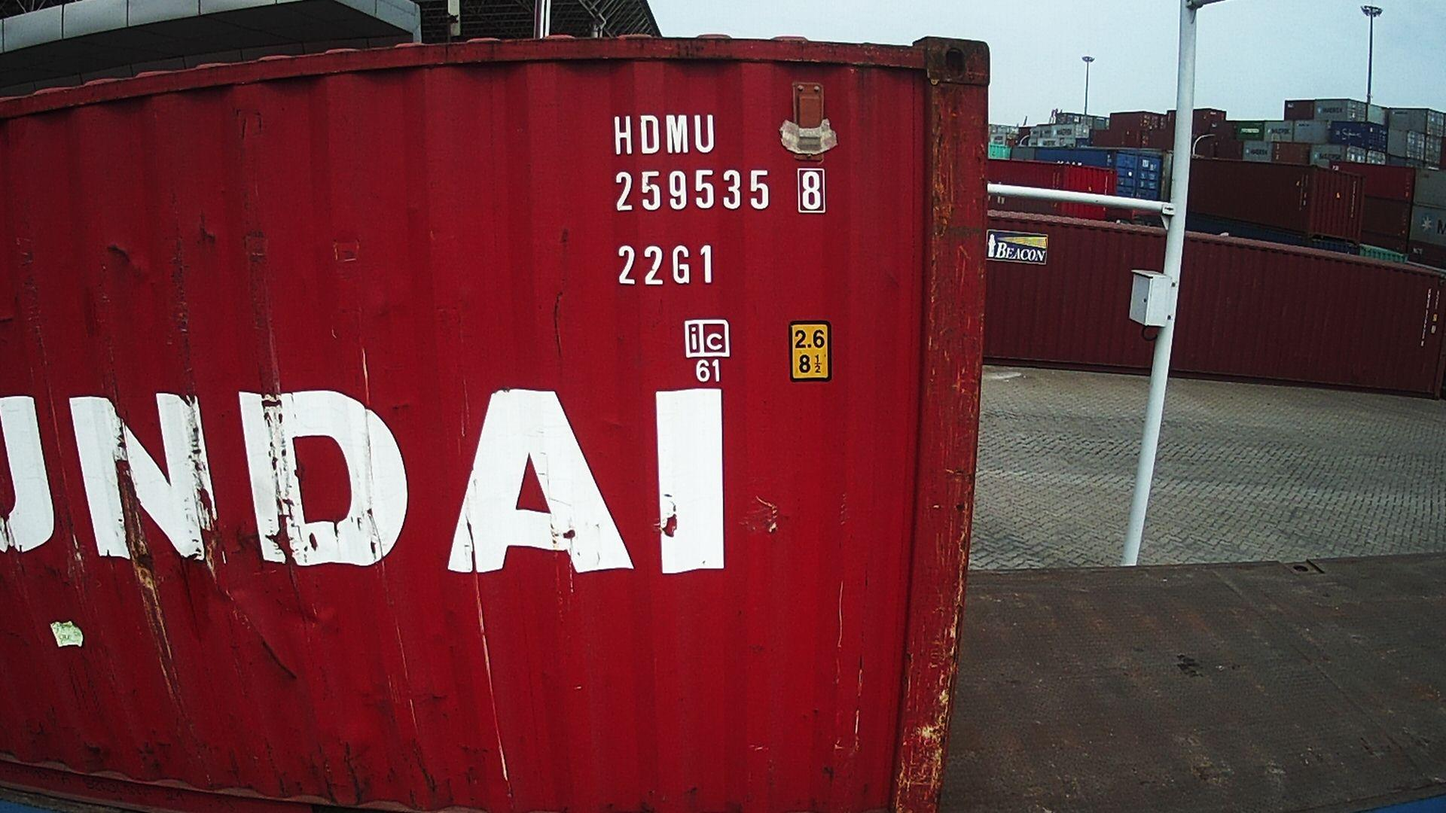container-numbers: (610, 166, 830, 217), (610, 110, 719, 159), (614, 241, 720, 289)
